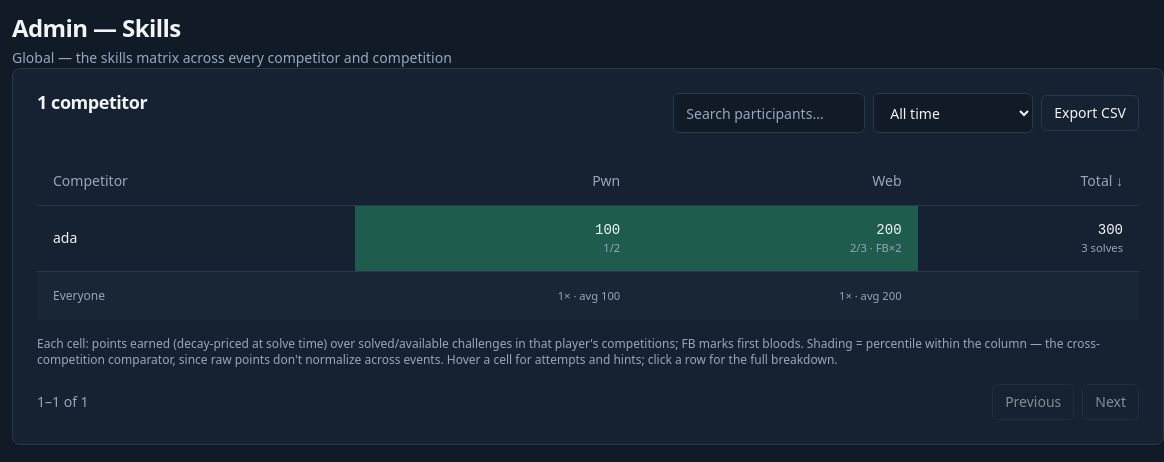
it: AdminSkillsPage search › debounces the search into the query (reset to page 1) and shows a no-match message
Type "zzz" into the search field labelled "Search participants".
click(769, 113); type("zzz")  # box [673, 93, 865, 133]
Wait 300 ms
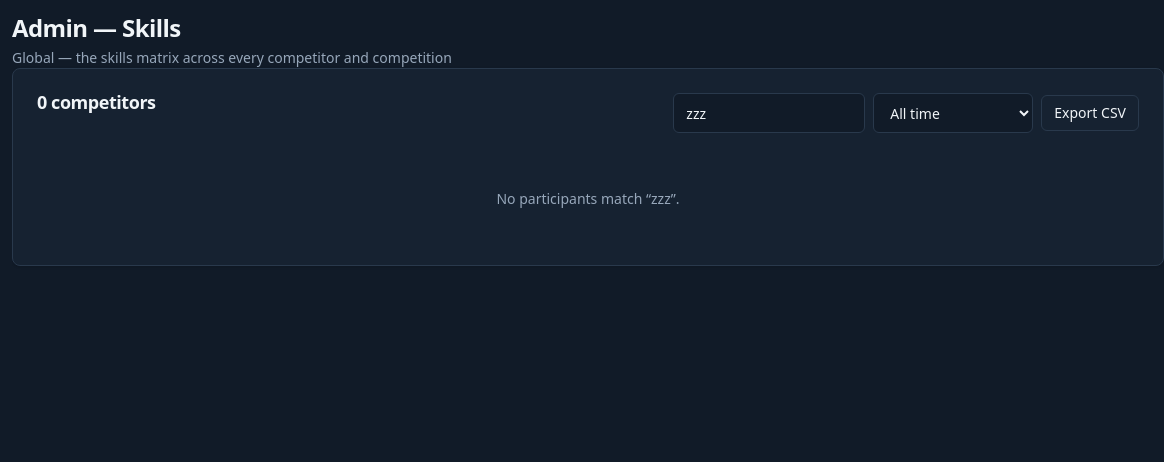
Expected: the text "No participants match “zzz”." is shown, [496, 189, 680, 208]
